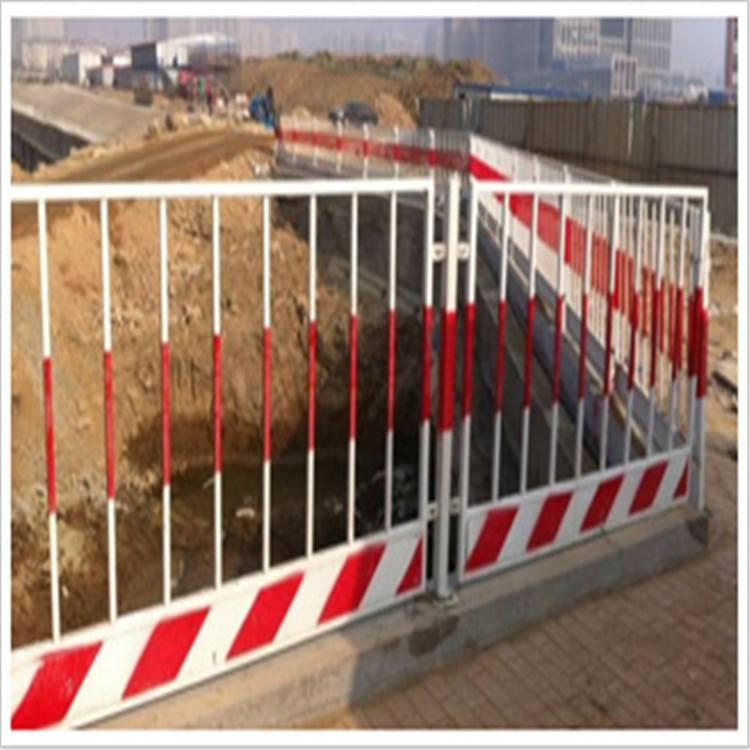sign: (11, 165, 718, 659)
